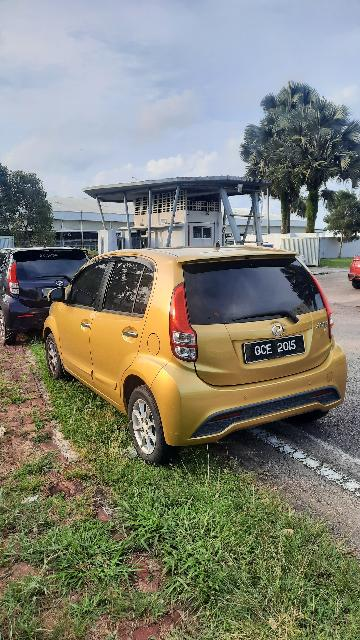License_Plate: (240, 330, 311, 368)
car: (37, 247, 354, 470), (1, 238, 103, 350)
